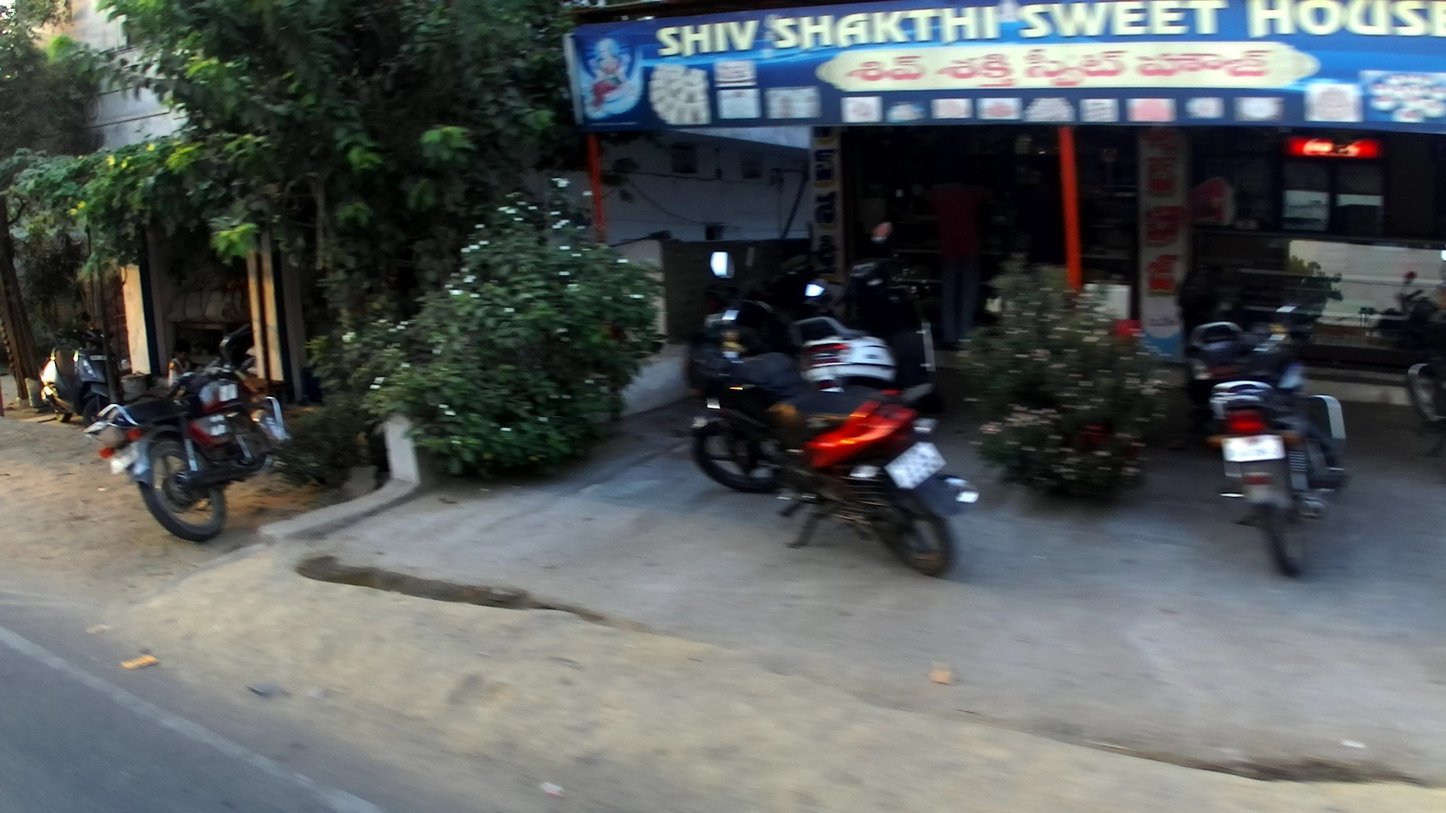motorcycle: (683, 249, 983, 576), (84, 321, 299, 545), (1181, 299, 1352, 578), (792, 222, 937, 408), (1359, 261, 1443, 446), (34, 315, 122, 425)
person: (927, 166, 991, 358)
